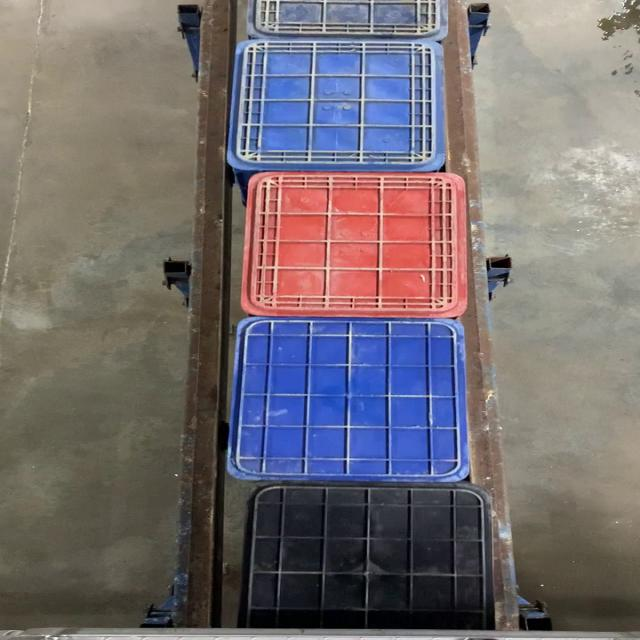Box: (227, 317, 471, 483), (243, 172, 471, 318), (229, 39, 448, 172)
